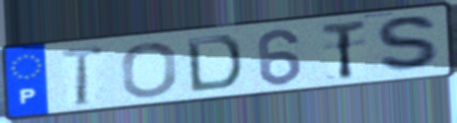6: (255, 26, 305, 87)
D: (183, 33, 245, 94)
O: (120, 40, 180, 99)
S: (373, 14, 446, 75)
T: (319, 17, 369, 82), (58, 43, 107, 108)
